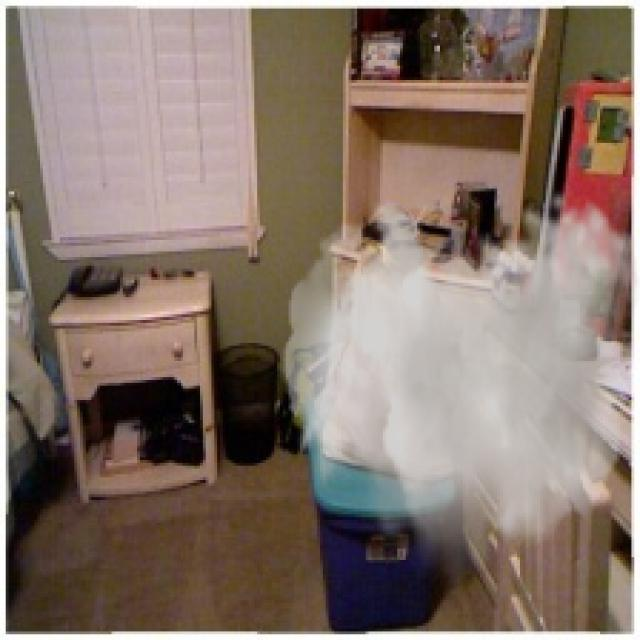smoke: (283, 186, 637, 600)
